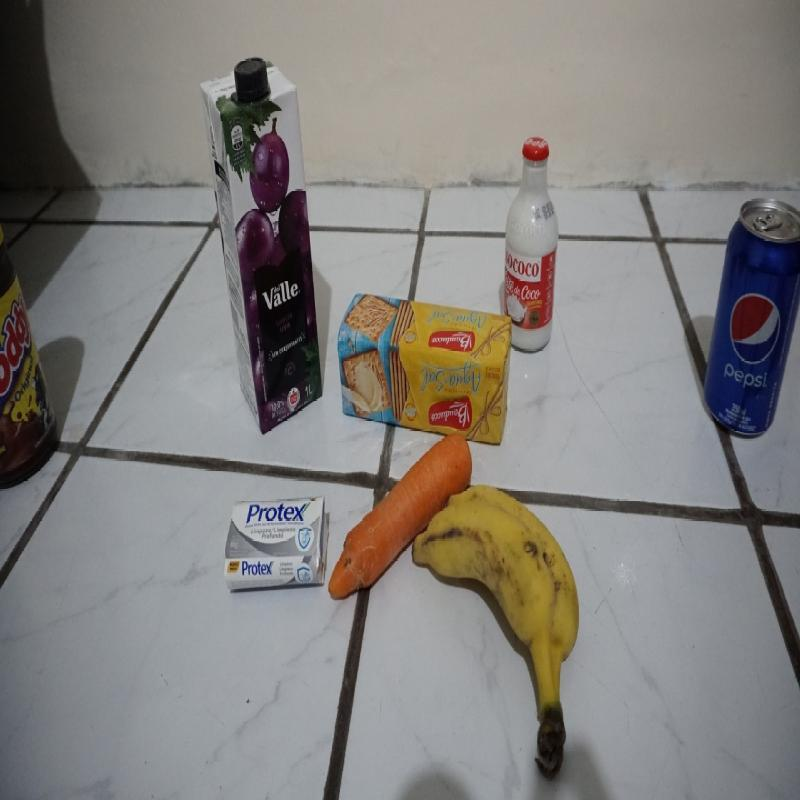Banana: (413, 485, 578, 766)
Carrot: (328, 435, 470, 600)
Chocolate Powder: (1, 209, 59, 498)
Coconut Milk: (505, 136, 558, 351)
Cracker: (339, 292, 513, 443)
Soap: (226, 498, 328, 592)
Soda can: (700, 199, 798, 440)
